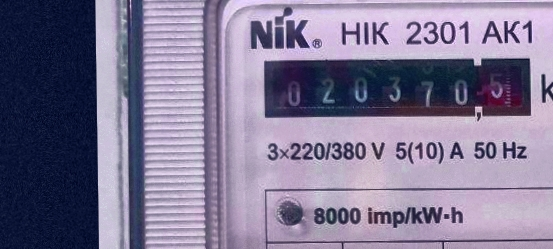0: (451, 77, 469, 107), (284, 77, 301, 106), (352, 74, 367, 102)
2: (318, 75, 336, 106)
3: (385, 73, 401, 103)
5: (487, 69, 505, 100)
7: (418, 78, 433, 108)
screen: (256, 50, 539, 129)
